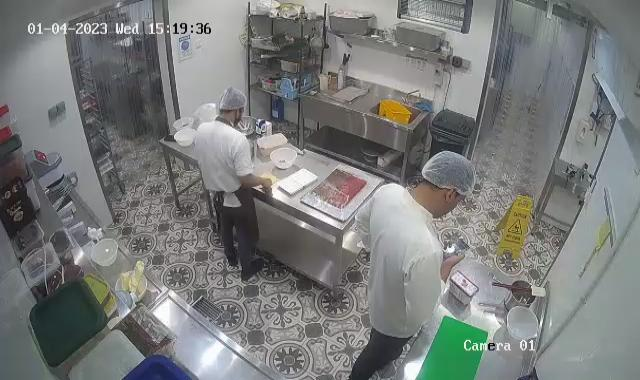hairnet: (421, 152, 476, 196), (216, 86, 246, 113)
